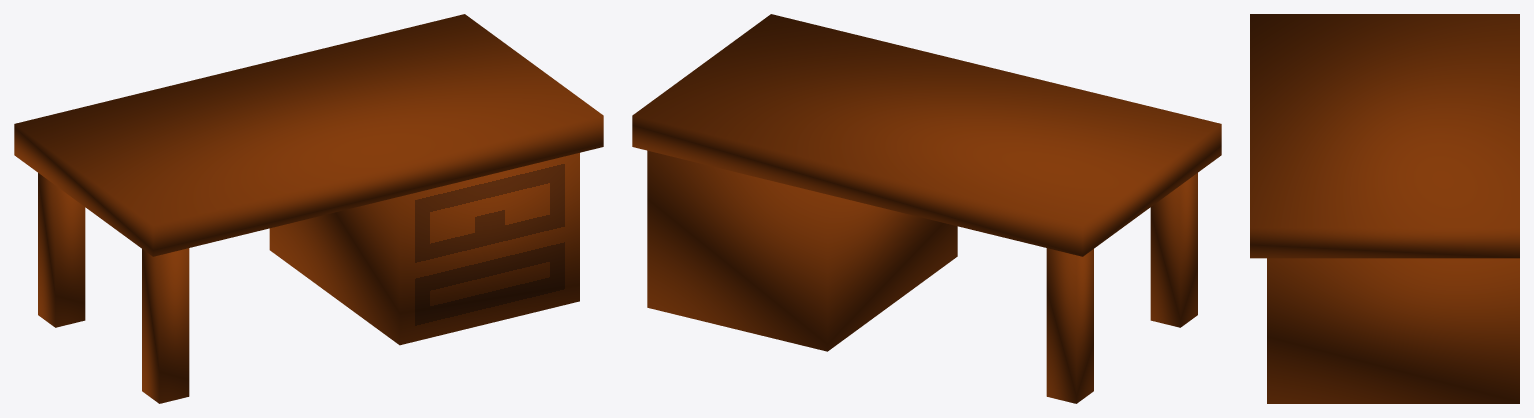
Rendered from Desk.fbx.
The picture shows the model from 3 angles, left to right: view 1: azimuth 30°, elevation 25°; view 2: azimuth 150°, elevation 25°; view 3: azimuth 270°, elevation 25°; orthographic projection. The views are drawn at different scales.
Visible parts, largest first — view 1: Cube; view 2: Cube; view 3: Cube.
Boxes of the visible parts, x1=… form: Cube: x1=14, y1=14, x2=603, y2=403; Cube: x1=632, y1=14, x2=1221, y2=403; Cube: x1=1250, y1=14, x2=1519, y2=403.
Bounding box in the file's own units: 1.88 × 0.75 × 1.
